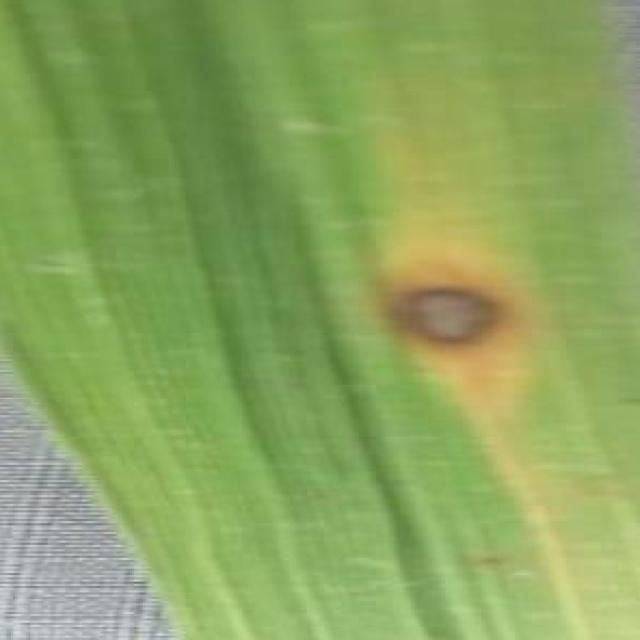Brown_Spot: (348, 227, 545, 407), (452, 540, 521, 588)
